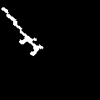double_crochet: (2, 8, 42, 55)
